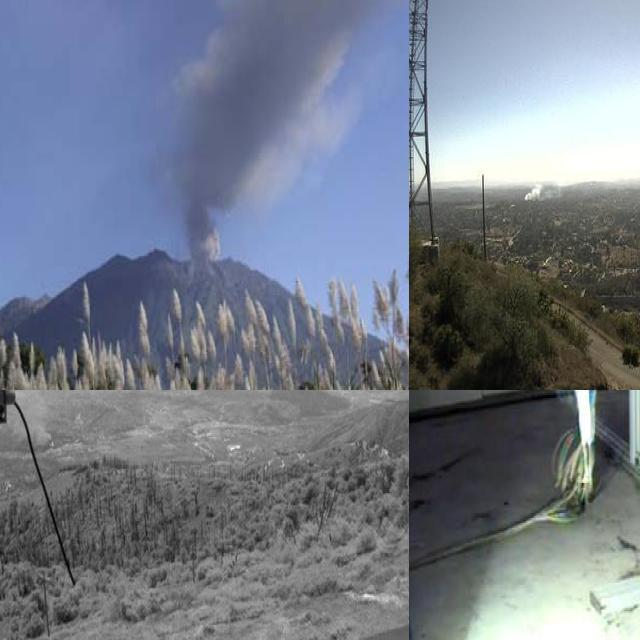smoke: (149, 0, 409, 261), (10, 390, 51, 447), (519, 172, 566, 202)
